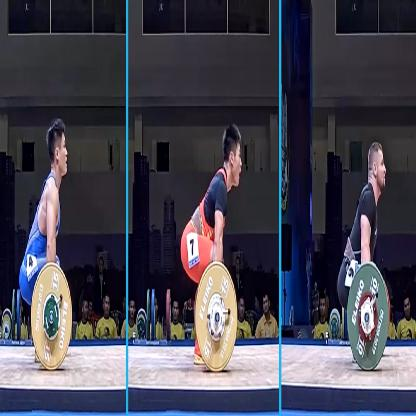Barbell: (191, 259, 241, 376), (346, 256, 394, 373), (28, 258, 74, 376)
